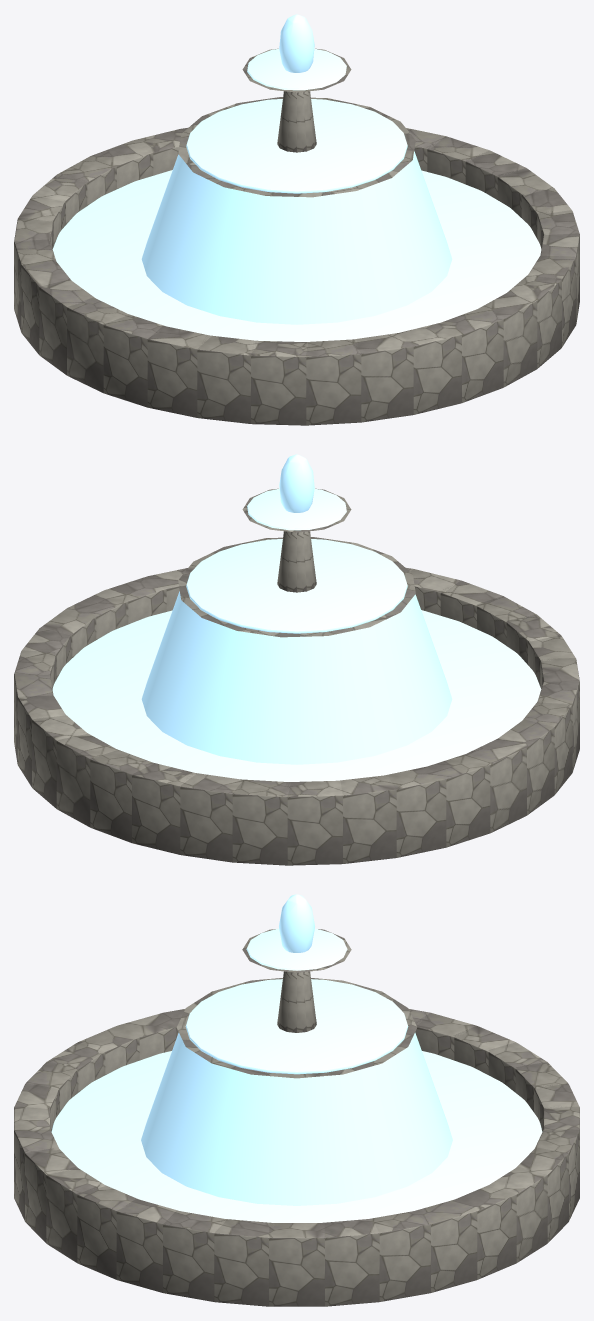
File: fountain.glb
3 renders of one model, top to bottom at view 1: azimuth 30°, elevation 25°; view 2: azimuth 150°, elevation 25°; view 3: azimuth 270°, elevation 25°, orthographic.
Visible parts, largest first — view 1: fountain; view 2: fountain; view 3: fountain.
Part boxes in pixels (x1=…): fountain: x1=14, y1=14, x2=579, y2=425; fountain: x1=14, y1=454, x2=579, y2=865; fountain: x1=14, y1=894, x2=579, y2=1306.
Size of the model in its own units: 5.6 by 3.2 by 5.6.
2 materials, 1 textured.
